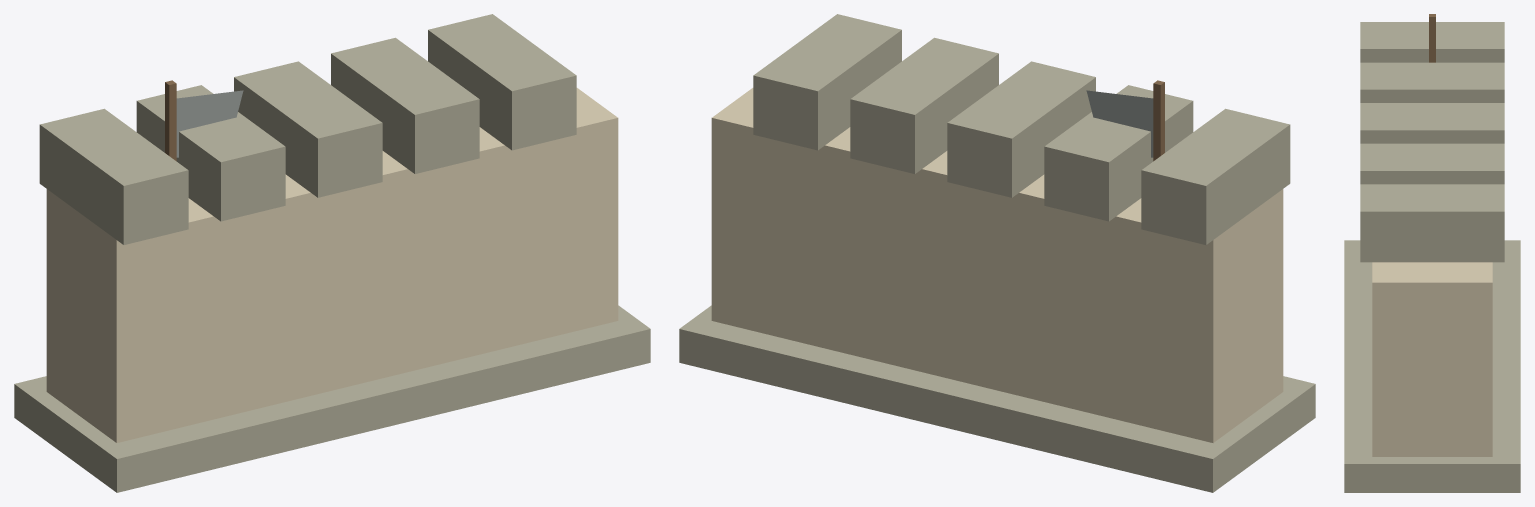
Rendered from fort-wall.glb.
3 views of the same model, side by side, from view 1: azimuth 30°, elevation 25°; view 2: azimuth 150°, elevation 25°; view 3: azimuth 270°, elevation 25° (orthographic). The views are drawn at different scales.
Visible parts, largest first — view 1: Building; view 2: Building; view 3: Building.
Part boxes in pixels (x1,y1,x2,y2): Building: (14, 14, 650, 492); Building: (679, 14, 1315, 492); Building: (1344, 14, 1520, 492).
Bounding box in the file's own units: 66 × 41 × 22.
